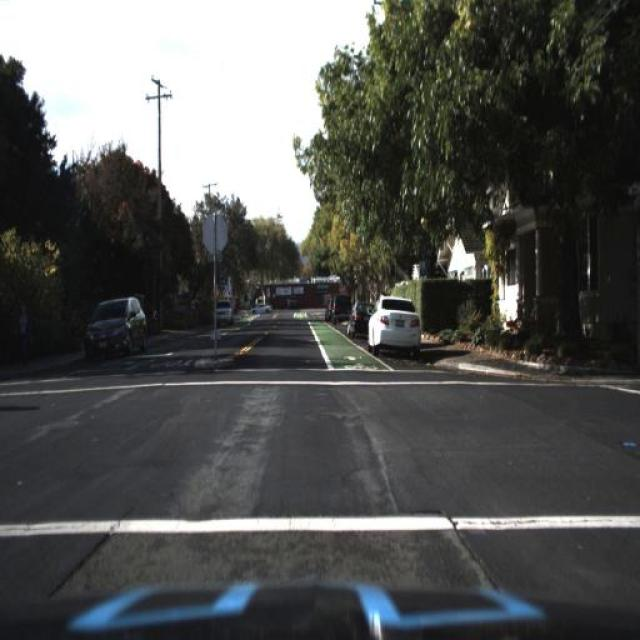car: (87, 294, 147, 362), (364, 290, 420, 358), (344, 298, 374, 340), (348, 299, 372, 341), (210, 296, 234, 326), (333, 293, 348, 326)
trafficLight: (11, 298, 33, 367), (17, 302, 28, 358)
